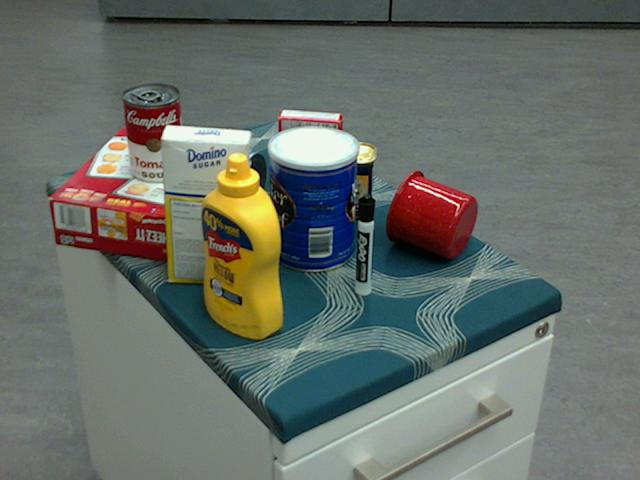cracker_box: (48, 125, 237, 265)
gelatin_box: (278, 109, 342, 167)
large_marker: (357, 194, 375, 296)
master_chef_can: (267, 125, 358, 272)
mug: (385, 169, 478, 259)
mustard_bottle: (202, 153, 282, 340)
potted_meat_can: (294, 140, 375, 217)
sugar_box: (160, 125, 250, 286)
tomato_soup_can: (121, 83, 184, 183)
tuna_fish_can: (210, 144, 263, 215)
